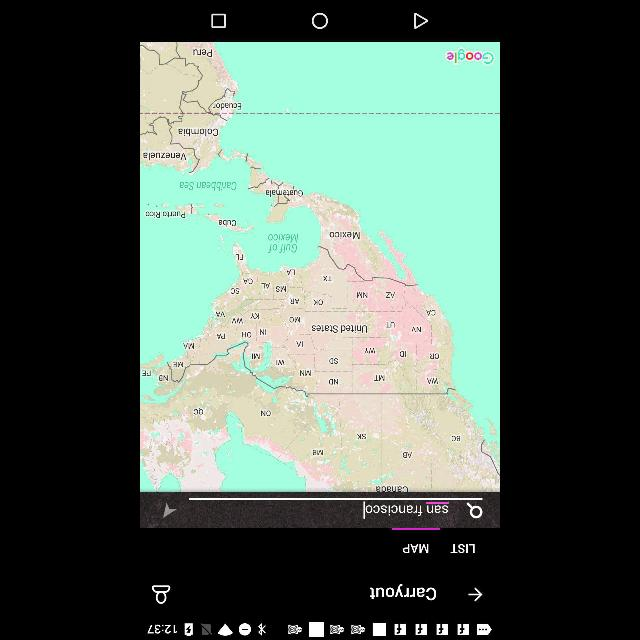icon: (312, 12, 328, 30), (466, 502, 482, 518), (414, 12, 428, 28), (212, 13, 226, 27), (162, 502, 175, 516)
input: (188, 498, 486, 520)
map: (140, 41, 500, 491)
multitab: (140, 526, 500, 566)
panel: (141, 0, 499, 40), (140, 492, 500, 526)
text: (364, 504, 448, 516)
toolbar: (141, 570, 499, 618)
uppertaskbar: (140, 620, 500, 640)
